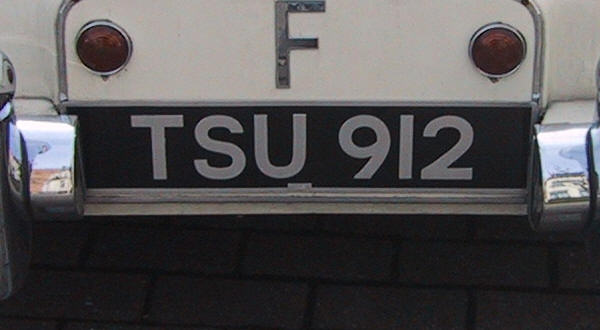license_plate: (65, 103, 531, 197)
